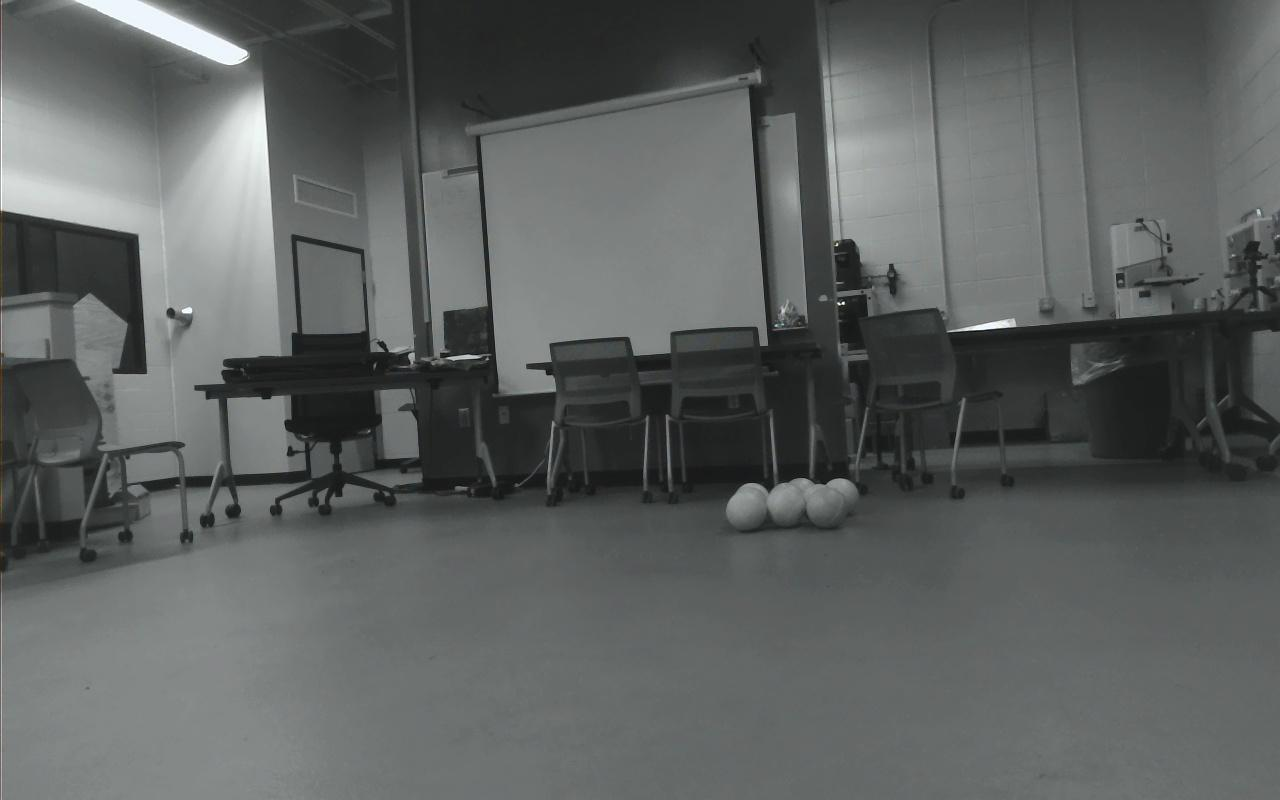Fuel: (726, 490, 768, 532), (805, 487, 846, 529), (768, 486, 806, 528), (735, 482, 771, 523), (823, 477, 858, 517), (768, 481, 803, 519), (731, 488, 767, 524), (785, 477, 814, 513), (802, 484, 833, 515)
